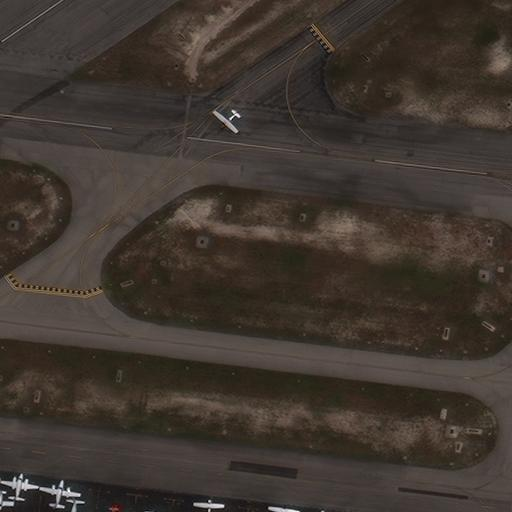Small Civil Transport: (39, 478, 81, 508), (0, 473, 38, 501), (212, 111, 237, 134), (193, 499, 225, 511), (58, 499, 86, 511), (0, 489, 15, 510), (268, 505, 301, 511)
